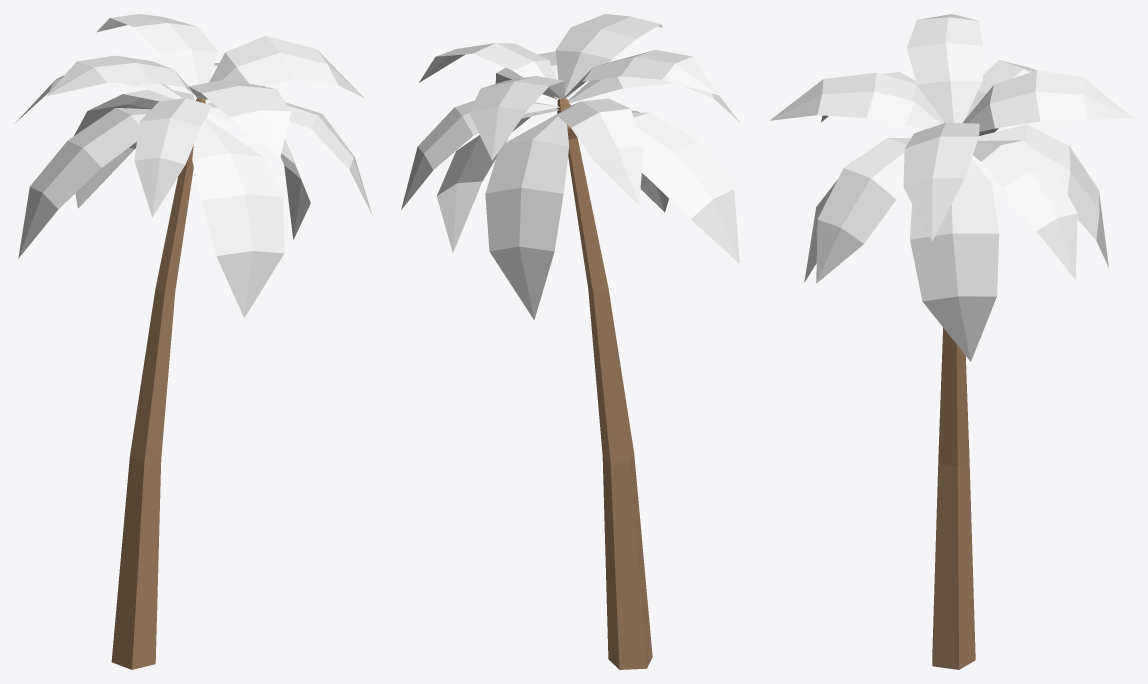
Rendered from Palm_Tree_OneSided_l_Snow_02.fbx.
The picture shows the model from 3 angles, left to right: view 1: azimuth 30°, elevation 25°; view 2: azimuth 150°, elevation 25°; view 3: azimuth 270°, elevation 25°; orthographic projection. The views are drawn at different scales.
Visible parts, largest first — view 1: Palm_Tree_OneSided_l_Snow_02; view 2: Palm_Tree_OneSided_l_Snow_02; view 3: Palm_Tree_OneSided_l_Snow_02.
Boxes of the visible parts, x1,y1,x2,y2 form: Palm_Tree_OneSided_l_Snow_02: [15, 14, 372, 669]; Palm_Tree_OneSided_l_Snow_02: [401, 14, 739, 669]; Palm_Tree_OneSided_l_Snow_02: [769, 14, 1133, 669].
Bounding box in the file's own units: 499 × 864 × 459.
